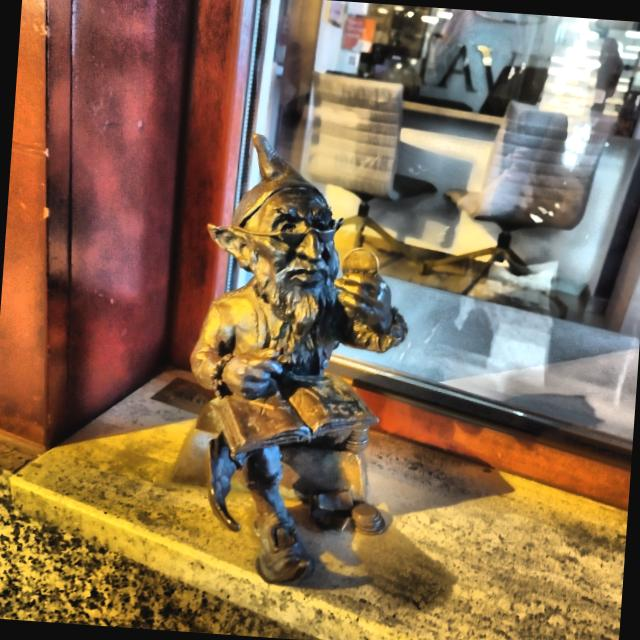Gaugan: (170, 134, 408, 585)
